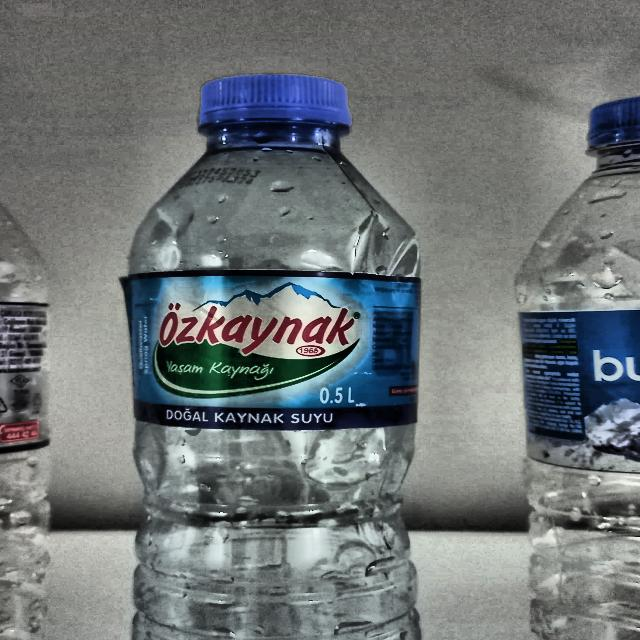plastic: (119, 70, 428, 640), (497, 97, 640, 640)
